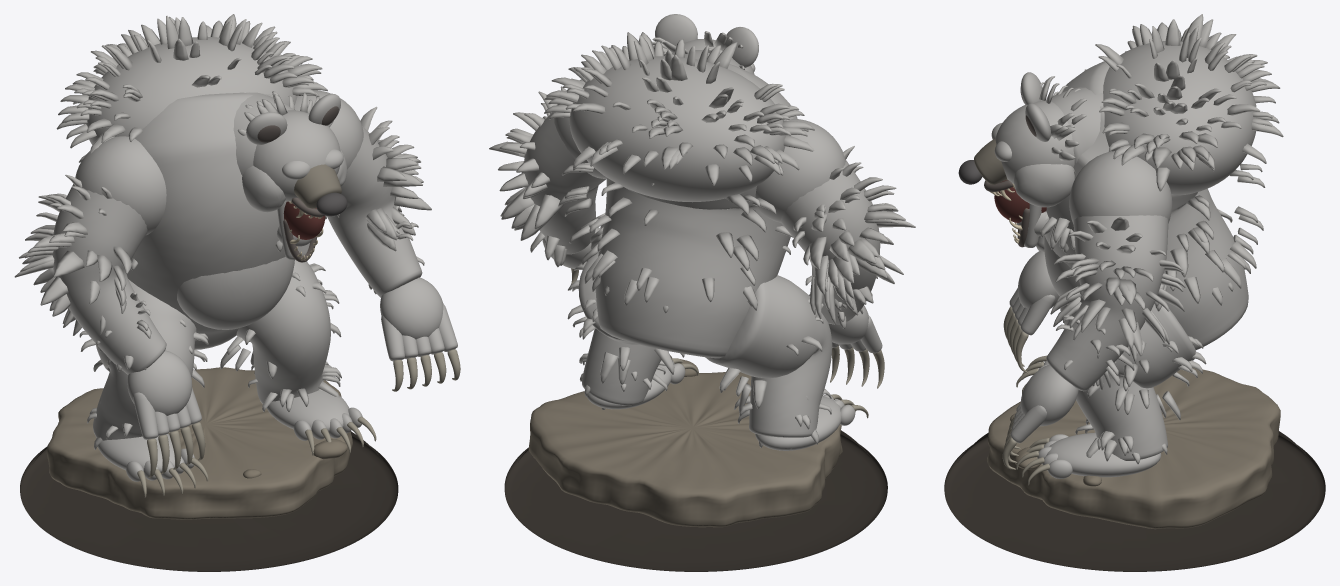
The picture shows the model from 3 angles, left to right: view 1: azimuth 30°, elevation 25°; view 2: azimuth 150°, elevation 25°; view 3: azimuth 270°, elevation 25°; orthographic projection.
Parts seen in each view (by area): view 1: Bear_Torso_And_Neck, Bear_Limbs, Spiky_Fur_Tufts, Rough_Stone_Slab, Round_Display_Base, Fore_Paws_Fingers, Bear_Head, Hind_Paws, Curved_Claws, Upper_Muzzle, Ears, Mouth_Interior (+4 smaller); view 2: Bear_Torso_And_Neck, Spiky_Fur_Tufts, Rough_Stone_Slab, Bear_Limbs, Round_Display_Base, Hind_Paws, Fore_Paws_Fingers, Ears, Curved_Claws; view 3: Bear_Torso_And_Neck, Spiky_Fur_Tufts, Rough_Stone_Slab, Round_Display_Base, Bear_Limbs, Bear_Head, Fore_Paws_Fingers, Hind_Paws, Curved_Claws, Ears, Upper_Muzzle, Mouth_Interior (+2 smaller).
Boxes of the visible parts, <box> form: Bear_Torso_And_Neck: <box>75,37,363,349</box>; Bear_Limbs: <box>52,126,422,440</box>; Spiky_Fur_Tufts: <box>14,14,431,449</box>; Rough_Stone_Slab: <box>46,367,352,519</box>; Round_Display_Base: <box>20,431,398,571</box>; Fore_Paws_Fingers: <box>127,277,457,439</box>; Bear_Head: <box>242,110,347,212</box>; Hind_Paws: <box>96,390,362,481</box>; Curved_Claws: <box>137,349,460,497</box>; Upper_Muzzle: <box>294,164,341,208</box>; Ears: <box>246,93,340,145</box>; Mouth_Interior: <box>283,201,325,239</box>; Bear_Torso_And_Neck: <box>554,49,845,358</box>; Spiky_Fur_Tufts: <box>489,31,915,449</box>; Rough_Stone_Slab: <box>528,372,842,527</box>; Bear_Limbs: <box>524,112,880,437</box>; Round_Display_Base: <box>504,430,887,571</box>; Hind_Paws: <box>586,360,855,450</box>; Fore_Paws_Fingers: <box>542,227,882,353</box>; Ears: <box>655,14,758,67</box>; Curved_Claws: <box>571,268,884,418</box>; Bear_Torso_And_Neck: <box>1044,41,1256,349</box>; Spiky_Fur_Tufts: <box>1039,14,1283,464</box>; Rough_Stone_Slab: <box>987,367,1280,529</box>; Round_Display_Base: <box>944,431,1325,571</box>; Bear_Limbs: <box>1036,215,1195,460</box>; Bear_Head: <box>991,100,1074,207</box>; Fore_Paws_Fingers: <box>1009,251,1078,443</box>; Hind_Paws: <box>1037,360,1161,478</box>; Curved_Claws: <box>1002,306,1049,485</box>; Ears: <box>1020,72,1050,141</box>; Upper_Muzzle: <box>974,138,1007,184</box>; Mouth_Interior: <box>994,180,1046,222</box>.
Size of the model in its own units: 0.9063 by 1 by 0.7463.
